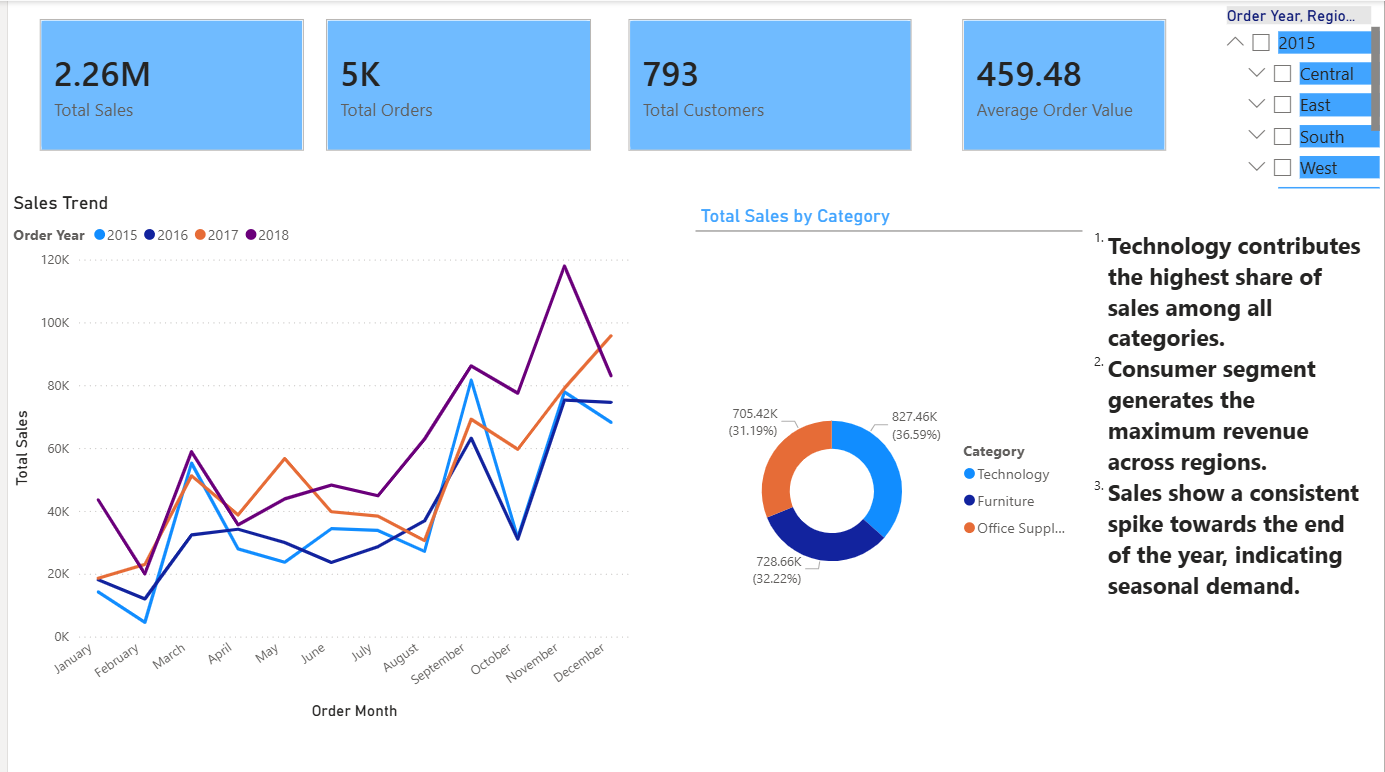

This screenshot's page, from the dashboard's own definition file:
{"tool":"powerbi","page":{"name":"Sales Overview","canvas":[1280,720],"ordinal":0},"visuals":[{"type":"cardVisual","fields":{"Data":["train.Total Sales"]},"box":[12.4,0,279.3,156.7],"z":0},{"type":"cardVisual","fields":{"Data":["train.Total Orders"]},"box":[279.3,0,280.9,156.7],"z":1},{"type":"cardVisual","fields":{"Data":["train.Total Customers"]},"box":[560.2,0,298,156.7],"z":2},{"type":"cardVisual","fields":{"Data":["train.Average Order Value"]},"box":[870.6,0,223.5,156.7],"z":3},{"type":"lineChart","title":"Sales Trend","fields":{"Category":["train.Order Month"],"Series":["train.Order Year"],"Y":["train.Total Sales"]},"box":[0,178.5,583.5,495.1],"z":4},{"type":"donutChart","fields":{"Category":["train.Category"],"Y":["train.Total Sales"]},"box":[639.4,189.3,360,505.9],"z":5},{"type":"textbox","box":[999.4,206.4,270,428.3],"z":6},{"type":"slicer","fields":{"Values":["train.Order Year","train.Region","train.Segment"]},"box":[1120.4,0,159.9,179.2],"z":7}]}

Visuals, with their boxes in screenshot pixels (x1, y1, x2, y2), scaled from the page's 1280x720 canvas onto the 1385x772 screenshot:
cardVisual - train.Total Sales: region(13, 0, 316, 168)
cardVisual - train.Total Orders: region(302, 0, 606, 168)
cardVisual - train.Total Customers: region(606, 0, 929, 168)
cardVisual - train.Average Order Value: region(942, 0, 1184, 168)
"Sales Trend" lineChart: region(0, 191, 631, 722)
donutChart - train.Category x train.Total Sales: region(692, 203, 1081, 745)
textbox: region(1081, 221, 1374, 681)
slicer - train.Order Year x train.Region: region(1212, 0, 1384, 192)
